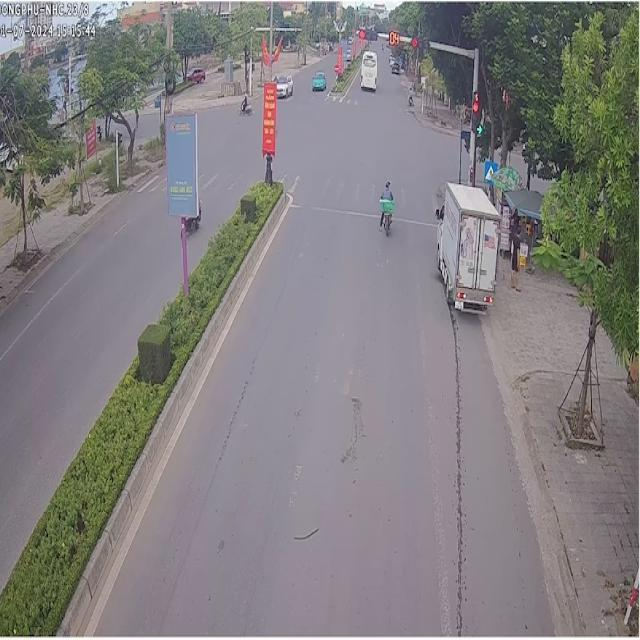car: (434, 180, 498, 309)
motobike: (378, 182, 393, 236)
red_light: (469, 88, 479, 131), (356, 24, 376, 39)
stop_line: (287, 202, 453, 228)
